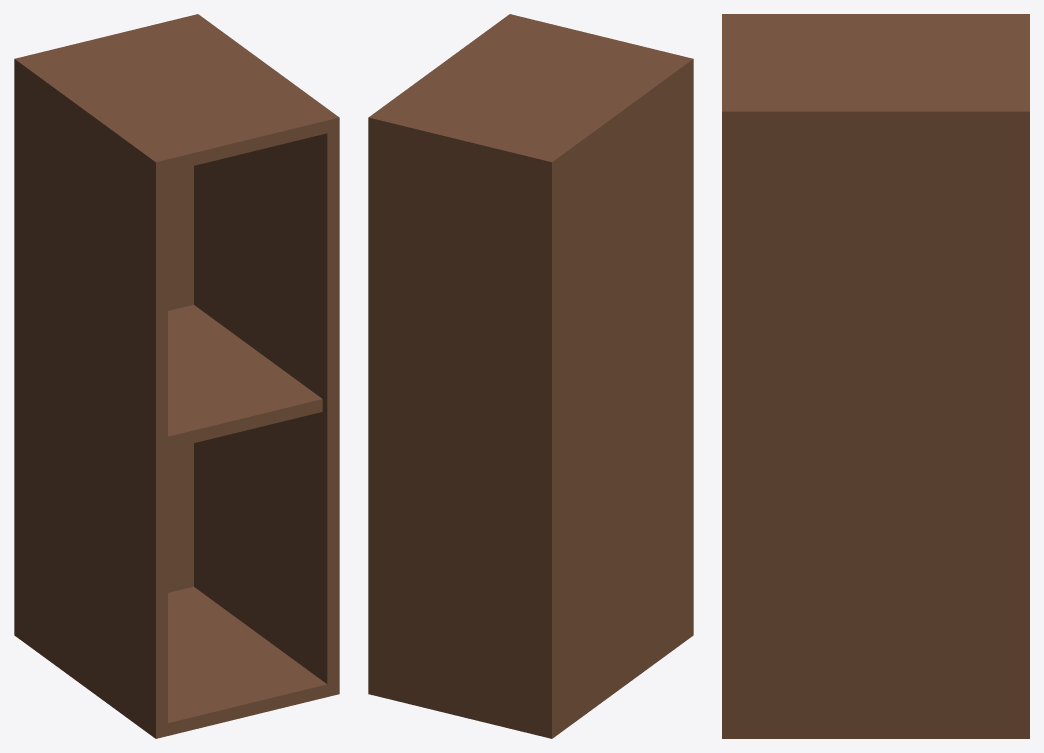
Rendered from Kitchen1_C2_10.fbx.
3 views of the same model, side by side, from view 1: azimuth 30°, elevation 25°; view 2: azimuth 150°, elevation 25°; view 3: azimuth 270°, elevation 25° (orthographic). The views are drawn at different scales.
Visible parts, largest first — view 1: Kitchen1_C2_10; view 2: Kitchen1_C2_10; view 3: Kitchen1_C2_10.
Boxes of the visible parts, <box> form: Kitchen1_C2_10: <box>14,14,339,738</box>; Kitchen1_C2_10: <box>368,14,693,738</box>; Kitchen1_C2_10: <box>722,14,1029,738</box>.
Size of the model in its own units: 30 by 90 by 40.
